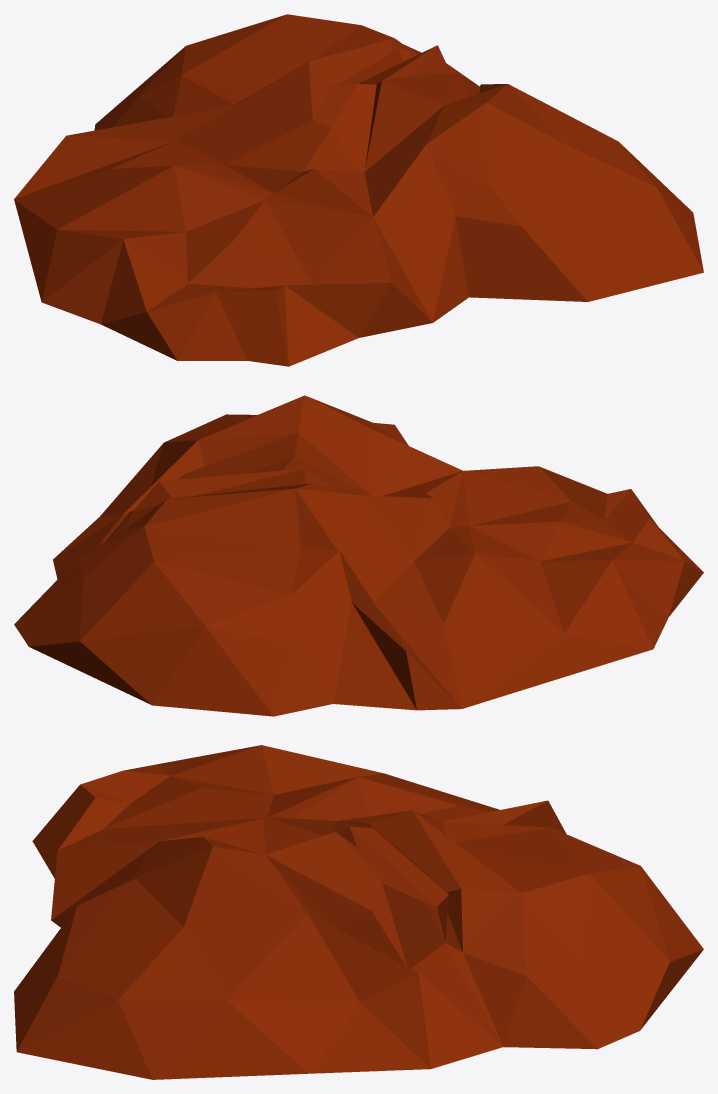
The model's file is Dirt_03.glb.
The picture shows the model from 3 angles, top to bottom: view 1: azimuth 30°, elevation 25°; view 2: azimuth 150°, elevation 25°; view 3: azimuth 270°, elevation 25°; orthographic projection. The views are drawn at different scales.
Visible parts, largest first — view 1: Dirt_03; view 2: Dirt_03; view 3: Dirt_03.
Boxes of the visible parts, box(x1,y1,x2,y2) form: Dirt_03: box(14, 14, 703, 366); Dirt_03: box(14, 395, 703, 716); Dirt_03: box(14, 745, 703, 1079).
Size of what is drawn, in the model's own units: 3.26 by 0.713 by 3.16.
Materials: 1 (1 with a texture image).
